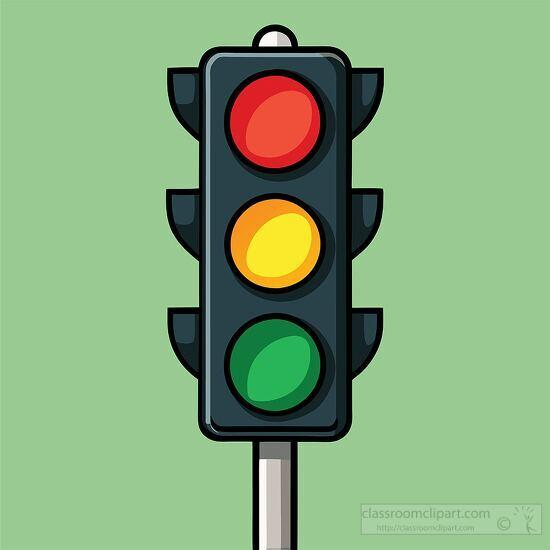traffic light: (119, 16, 416, 492)
